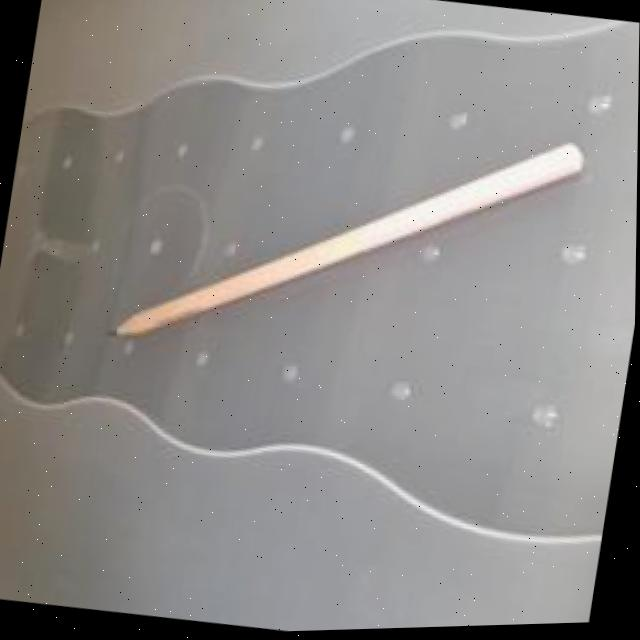pencil: (106, 83, 587, 398)
